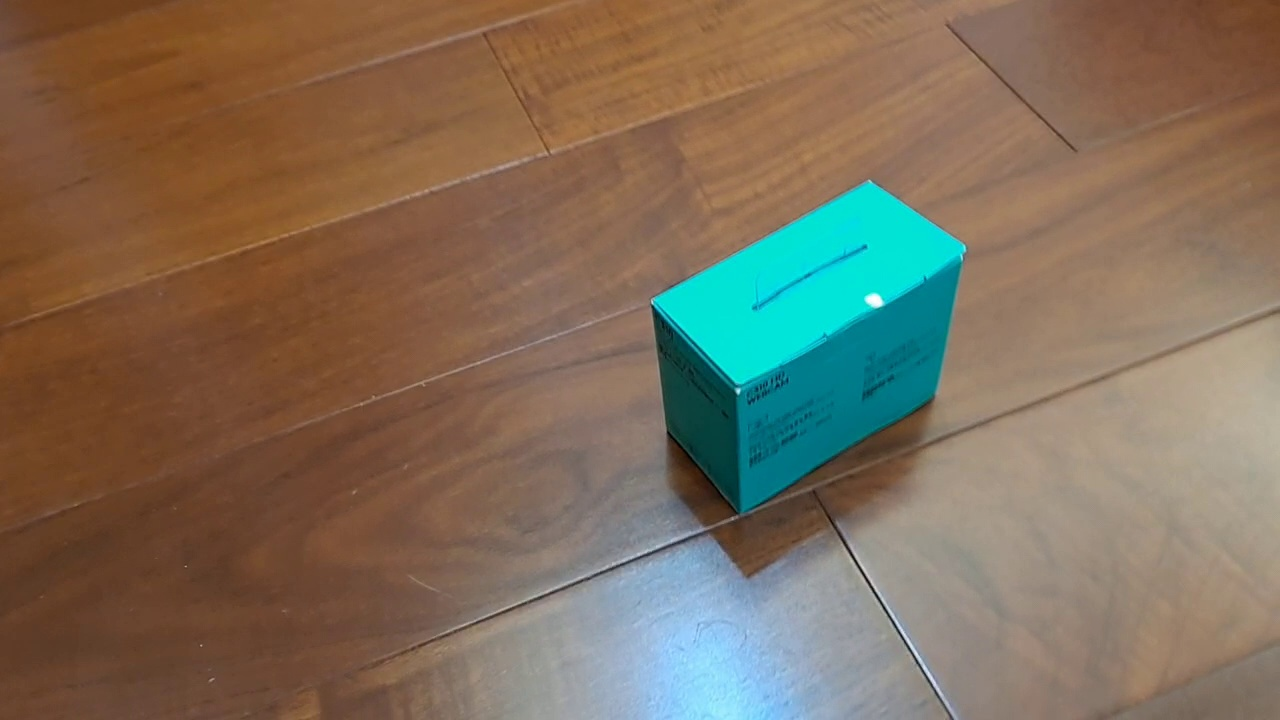webcam: (648, 177, 968, 518)
